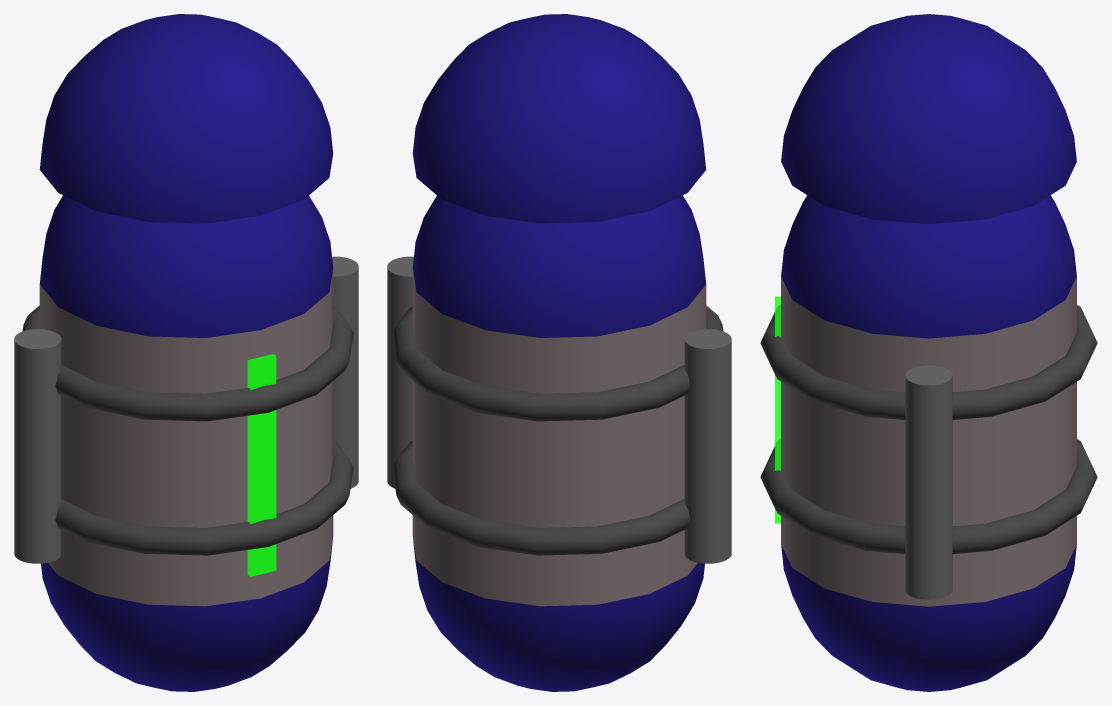
Rendered from Power_Module.glb.
The picture shows the model from 3 angles, left to right: view 1: azimuth 30°, elevation 25°; view 2: azimuth 150°, elevation 25°; view 3: azimuth 270°, elevation 25°; orthographic projection.
Visible parts, largest first — view 1: Mesh_0, Mesh_Top_floater, Mesh_1, Mesh_1.001, Mesh_4.001, Mesh_3, Mesh_2, Mesh_5, Mesh_4; view 2: Mesh_0, Mesh_Top_floater, Mesh_1, Mesh_1.001, Mesh_4.001, Mesh_3, Mesh_2, Mesh_4; view 3: Mesh_0, Mesh_Top_floater, Mesh_1, Mesh_1.001, Mesh_4, Mesh_3, Mesh_2, Mesh_5.
Part boxes in pixels (x1=…): Mesh_0: x1=39, y1=268, x2=333, y2=606; Mesh_Top_floater: x1=39, y1=14, x2=333, y2=223; Mesh_1: x1=39, y1=195, x2=333, y2=337; Mesh_1.001: x1=41, y1=539, x2=332, y2=691; Mesh_4.001: x1=14, y1=329, x2=61, y2=563; Mesh_3: x1=22, y1=305, x2=353, y2=421; Mesh_2: x1=55, y1=440, x2=353, y2=555; Mesh_5: x1=247, y1=354, x2=276, y2=576; Mesh_4: x1=332, y1=256, x2=358, y2=488; Mesh_0: x1=412, y1=268, x2=706, y2=606; Mesh_Top_floater: x1=412, y1=14, x2=706, y2=223; Mesh_1: x1=412, y1=195, x2=706, y2=337; Mesh_1.001: x1=413, y1=539, x2=704, y2=691; Mesh_4.001: x1=684, y1=329, x2=731, y2=563; Mesh_3: x1=392, y1=305, x2=723, y2=421; Mesh_2: x1=392, y1=440, x2=690, y2=555; Mesh_4: x1=387, y1=256, x2=413, y2=488; Mesh_0: x1=781, y1=276, x2=1076, y2=606; Mesh_Top_floater: x1=781, y1=14, x2=1076, y2=224; Mesh_1: x1=781, y1=195, x2=1076, y2=338; Mesh_1.001: x1=781, y1=544, x2=1076, y2=691; Mesh_4: x1=905, y1=365, x2=952, y2=599; Mesh_3: x1=760, y1=305, x2=1097, y2=419; Mesh_2: x1=760, y1=439, x2=1097, y2=553; Mesh_5: x1=775, y1=296, x2=780, y2=523.
Size of the model in its own units: 1.32 by 2.43 by 1.14.
